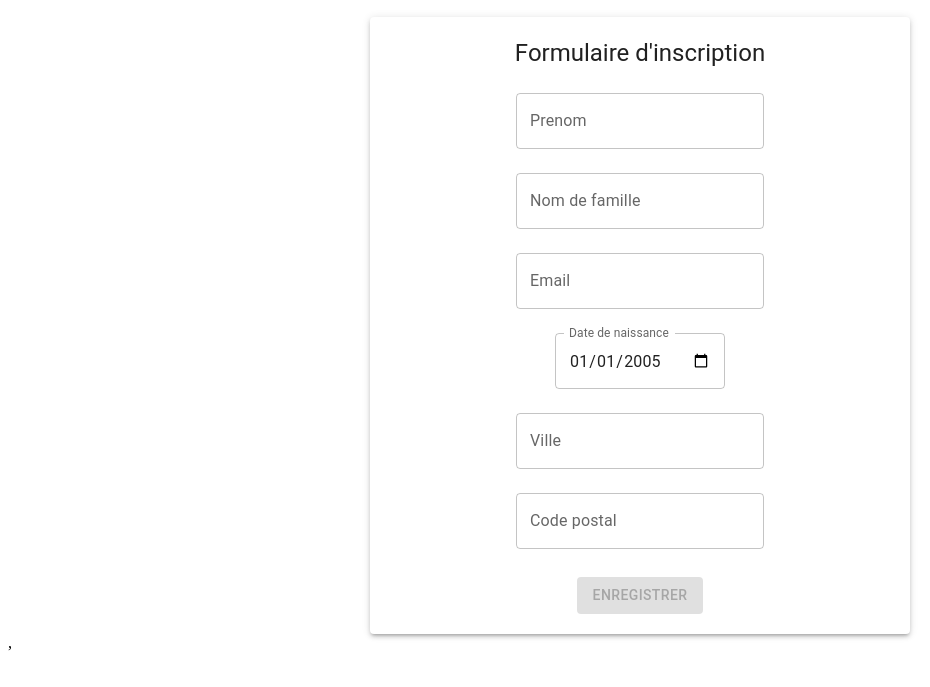
Test: Registration Form › should display an error if the user is under 18 years old
Fill out the form fields
Type "Takwa" into the field named "firstName" at coordinates (640, 121), box [516,93,764,149]
Type "zayene" into the field named "lastName" at coordinates (640, 201), box [516,173,764,229]
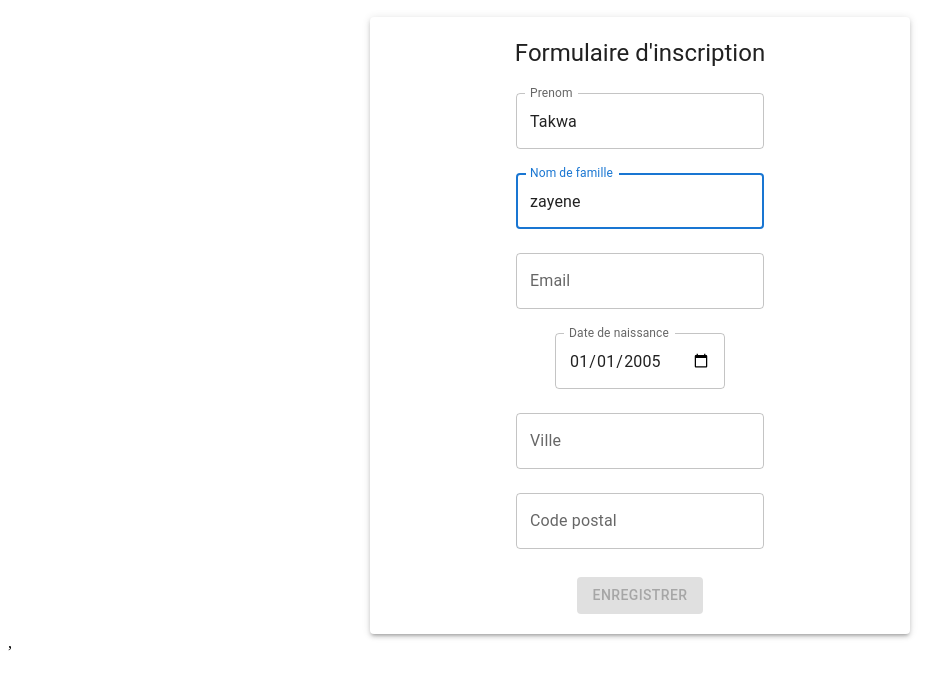
Type "takwazayene@example.com" into the field named "email" at coordinates (640, 281), box [516,253,764,309]
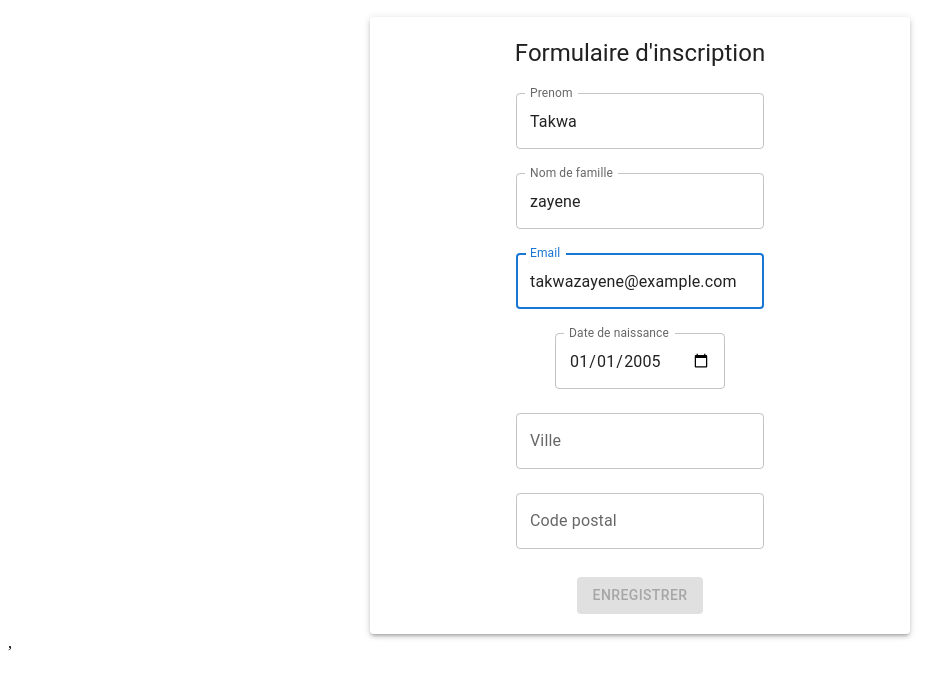
Enter a date of birth for someone under 18
Type "2010-01-01" into the date field named "dateOfBirth" at coordinates (640, 361), box [555,333,725,389]
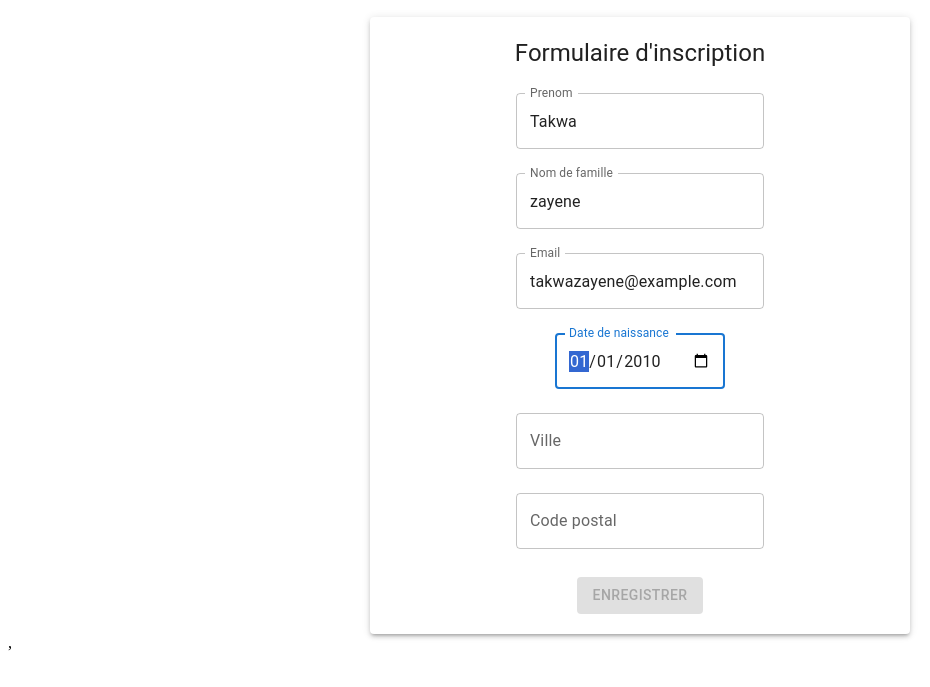
Type "New York" into the field named "city" at coordinates (640, 441), box [516,413,764,469]
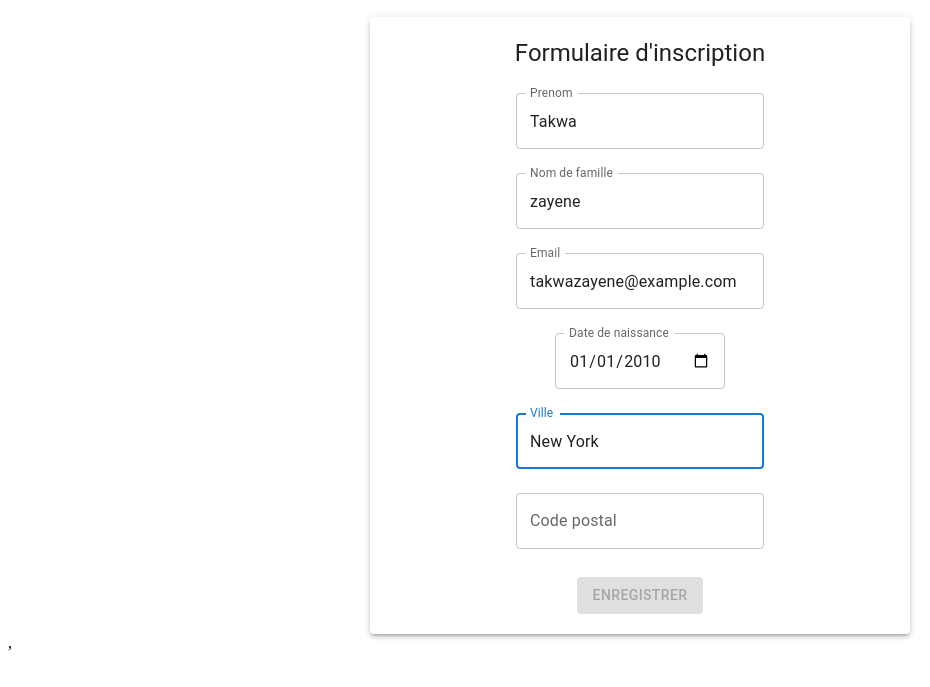
Type "10001" into the field named "postalCode" at coordinates (640, 521), box [516,493,764,549]
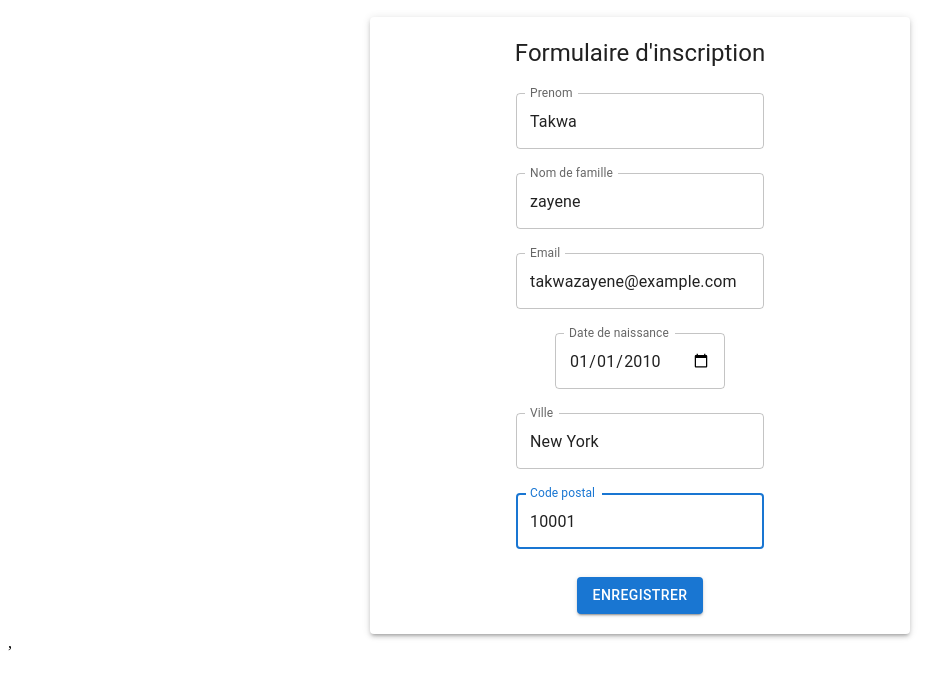
Click the submit button
Click the submit button at coordinates (641, 596), box [577,577,704,614]
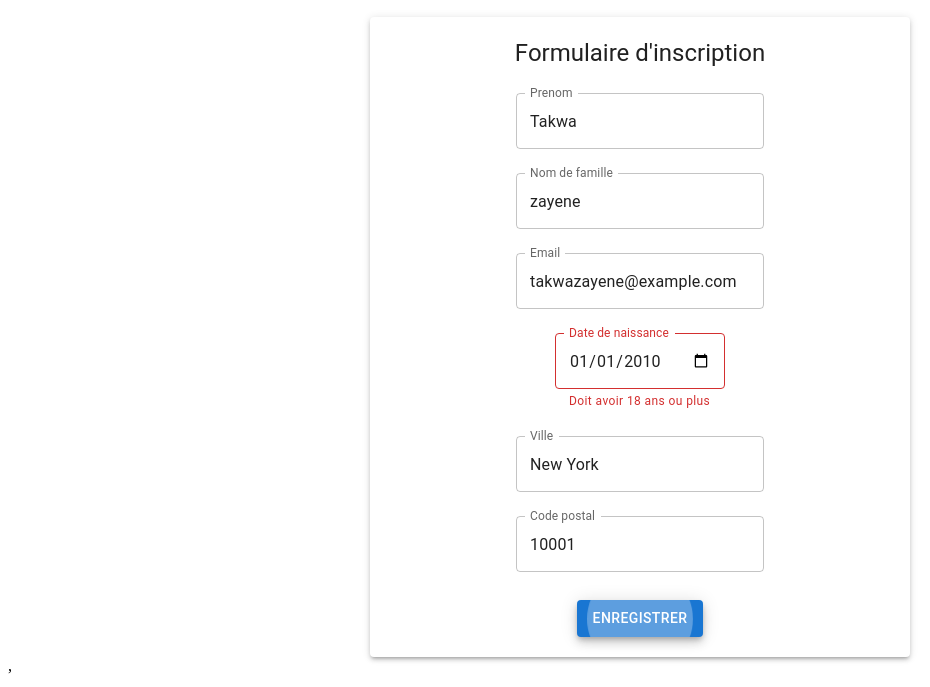
Check: the text "Doit avoir 18 ans ou plus" is shown, box [569,392,711,412]
